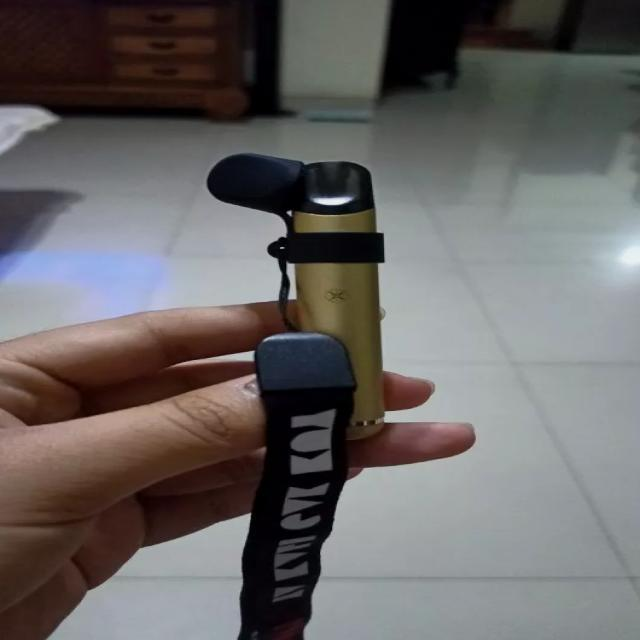Hazard: (203, 148, 384, 443)
